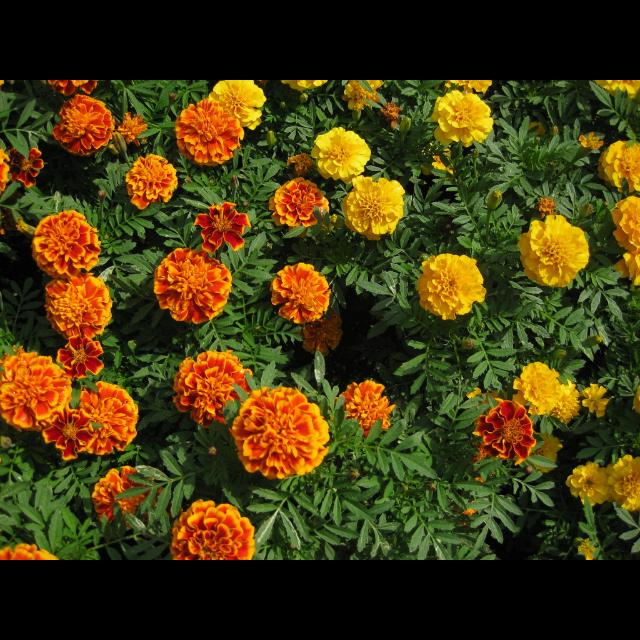Flower: (228, 380, 332, 490), (42, 380, 138, 460), (168, 350, 256, 430), (144, 240, 226, 320), (511, 215, 589, 291), (0, 350, 68, 432), (171, 496, 255, 560), (468, 400, 540, 474), (90, 467, 166, 535), (178, 101, 246, 170), (413, 254, 483, 320), (31, 210, 105, 272), (50, 95, 114, 161), (46, 270, 114, 332), (270, 260, 330, 326), (506, 359, 564, 421), (431, 88, 495, 144), (311, 123, 369, 183), (343, 174, 399, 232), (210, 80, 268, 134), (268, 178, 328, 226), (333, 381, 393, 429), (188, 197, 245, 247), (128, 155, 180, 207), (592, 140, 640, 192), (298, 310, 346, 352), (564, 462, 612, 503), (604, 456, 638, 512), (60, 332, 106, 370), (610, 194, 640, 250), (18, 144, 52, 188), (116, 110, 148, 154), (546, 384, 582, 422), (0, 544, 58, 560), (592, 80, 640, 92), (444, 80, 490, 92), (48, 80, 102, 90), (279, 80, 321, 92), (0, 150, 10, 192)
